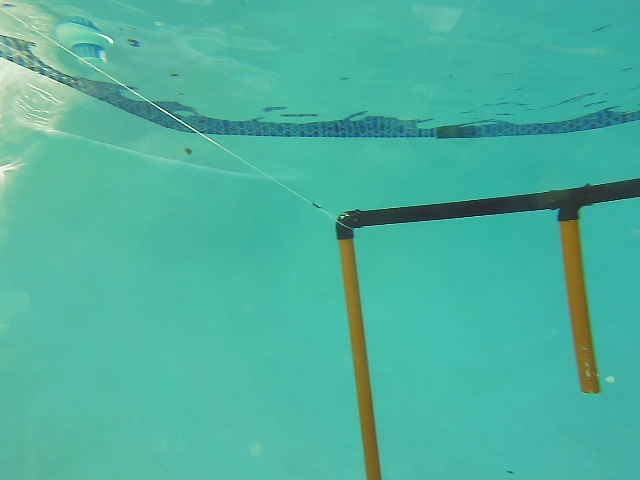Gate: (330, 228, 390, 480), (550, 213, 605, 404)
